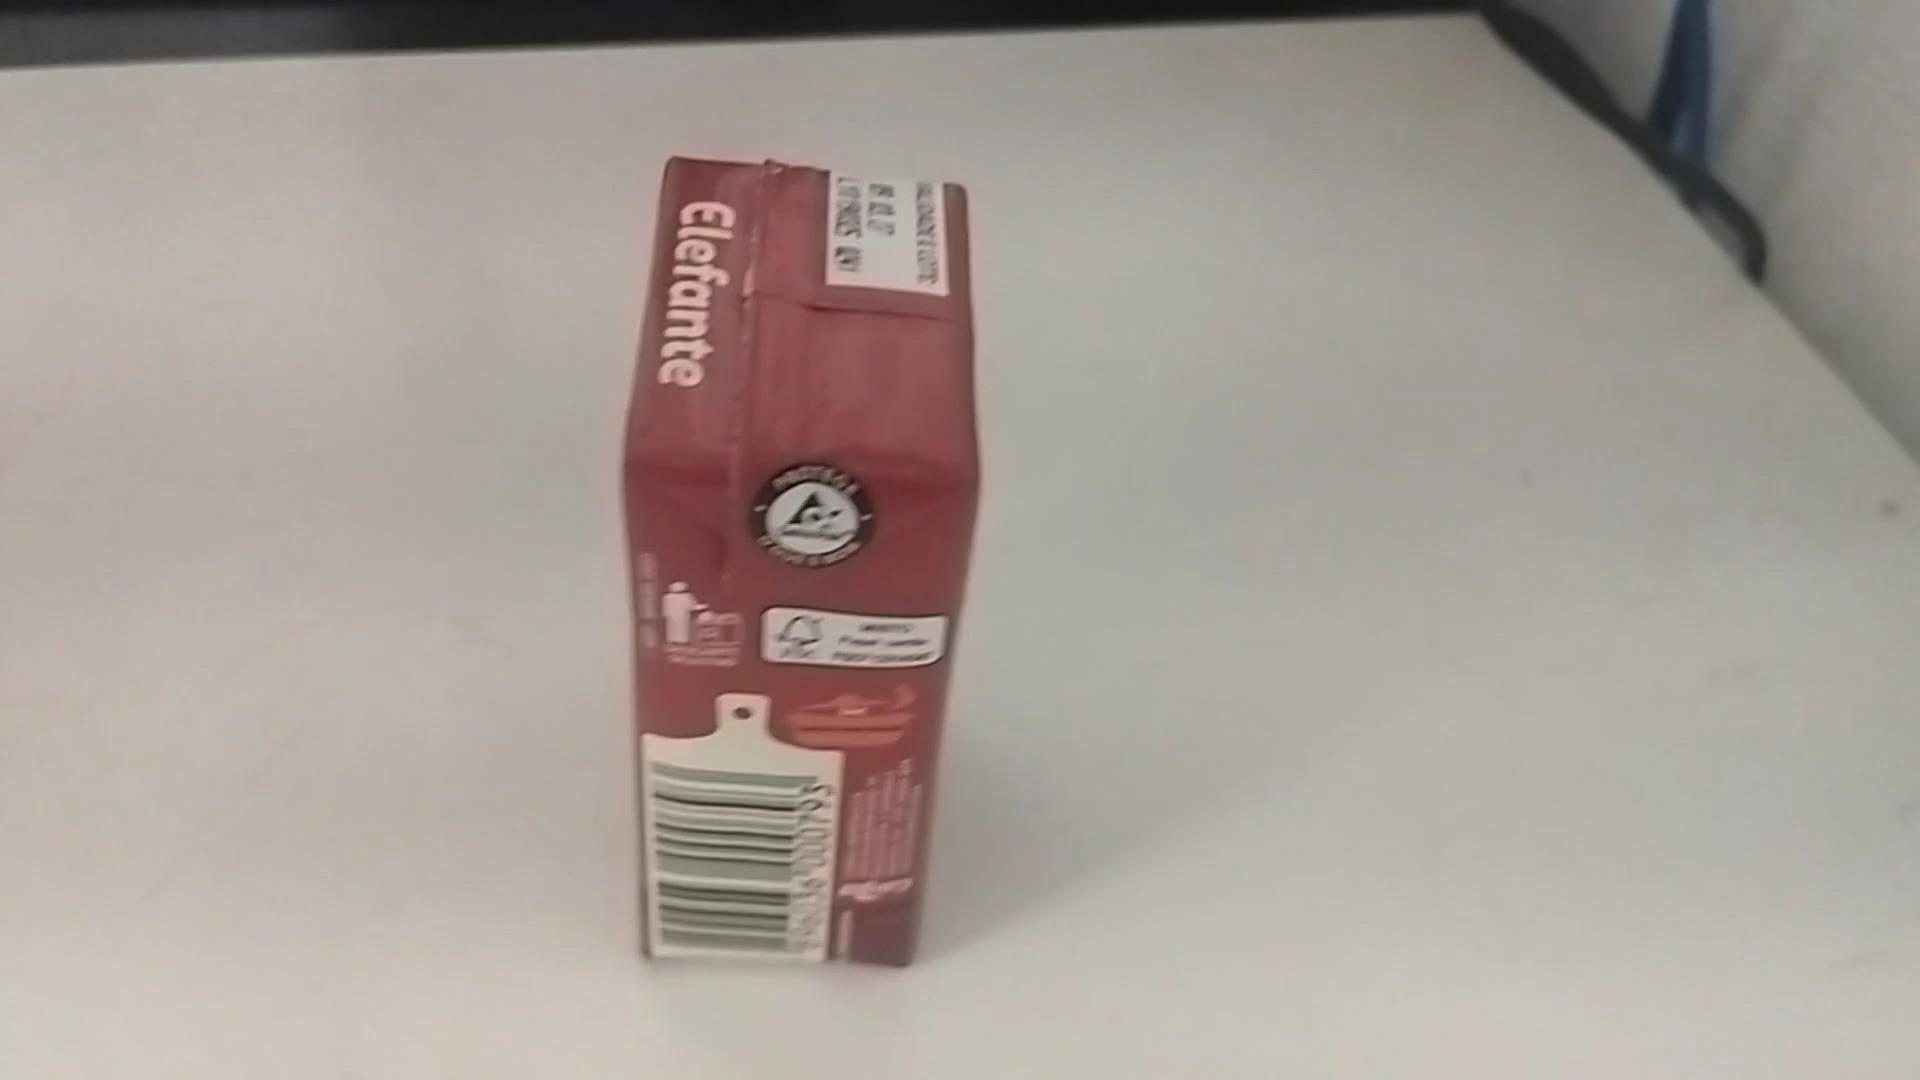tomate: (582, 120, 1009, 996)
